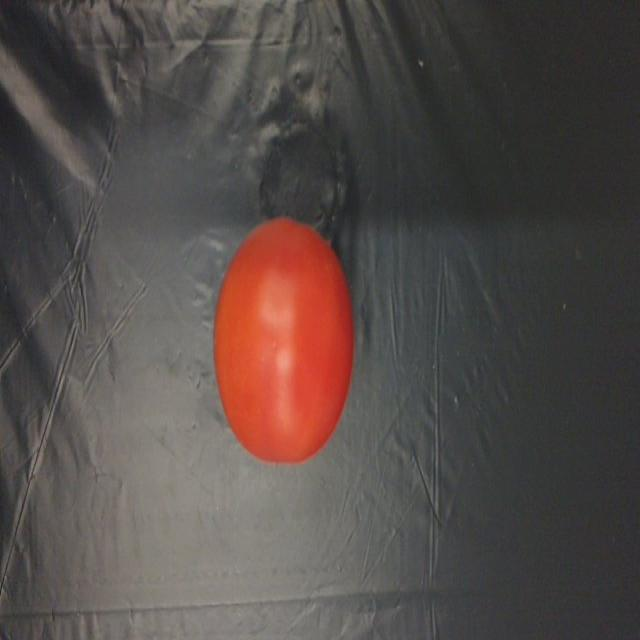kirmizi: (206, 213, 356, 461)
